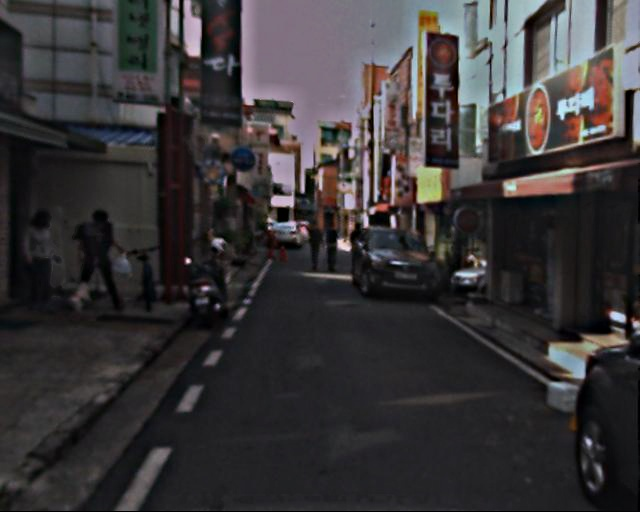person: (20, 203, 76, 307), (80, 207, 127, 314), (346, 222, 368, 276), (304, 222, 325, 274), (321, 223, 342, 273)
